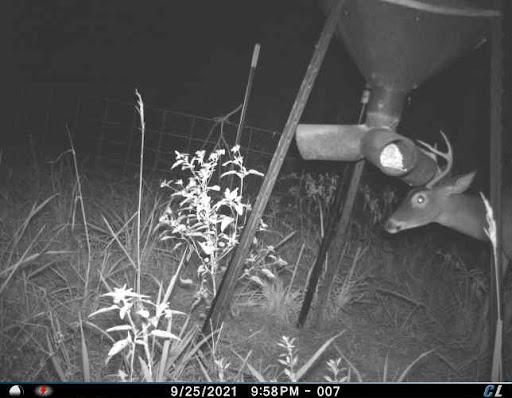Deer: (374, 125, 512, 267)
